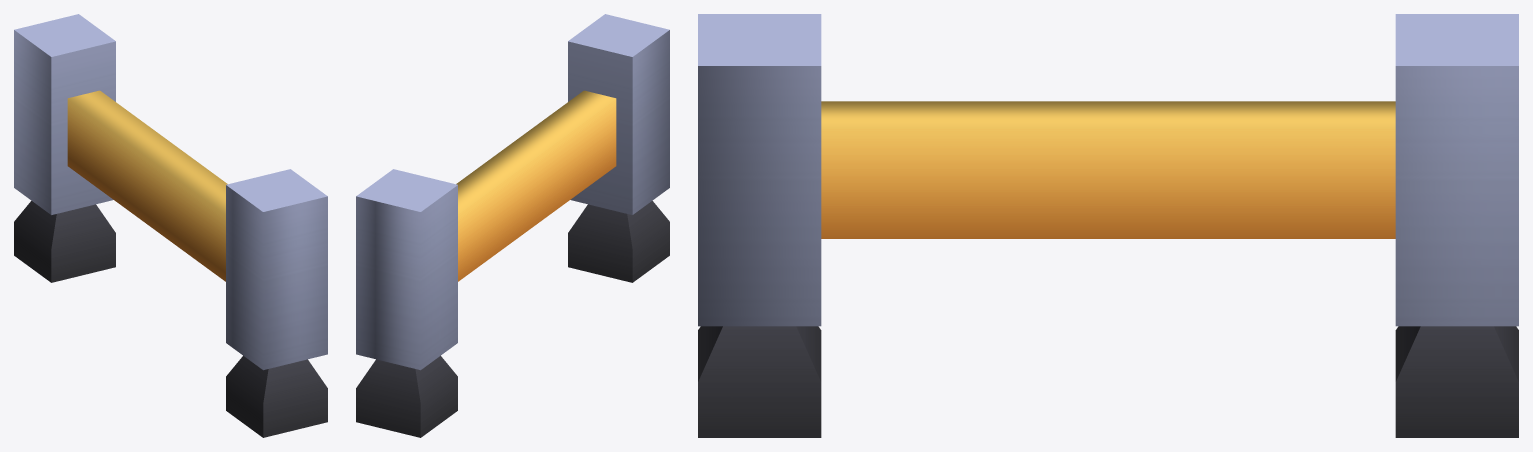
The picture shows the model from 3 angles, left to right: view 1: azimuth 30°, elevation 25°; view 2: azimuth 150°, elevation 25°; view 3: azimuth 270°, elevation 25°; orthographic projection. The views are drawn at different scales.
Parts seen in each view (by area): view 1: structure_yellow_short; view 2: structure_yellow_short; view 3: structure_yellow_short.
Part boxes in pixels (x1,y1,x2,y2): structure_yellow_short: (14,14,327,437); structure_yellow_short: (356,14,669,437); structure_yellow_short: (698,14,1518,437).
Size of the model in its own units: 0.15 by 0.5 by 1.
1 material, 1 textured.
